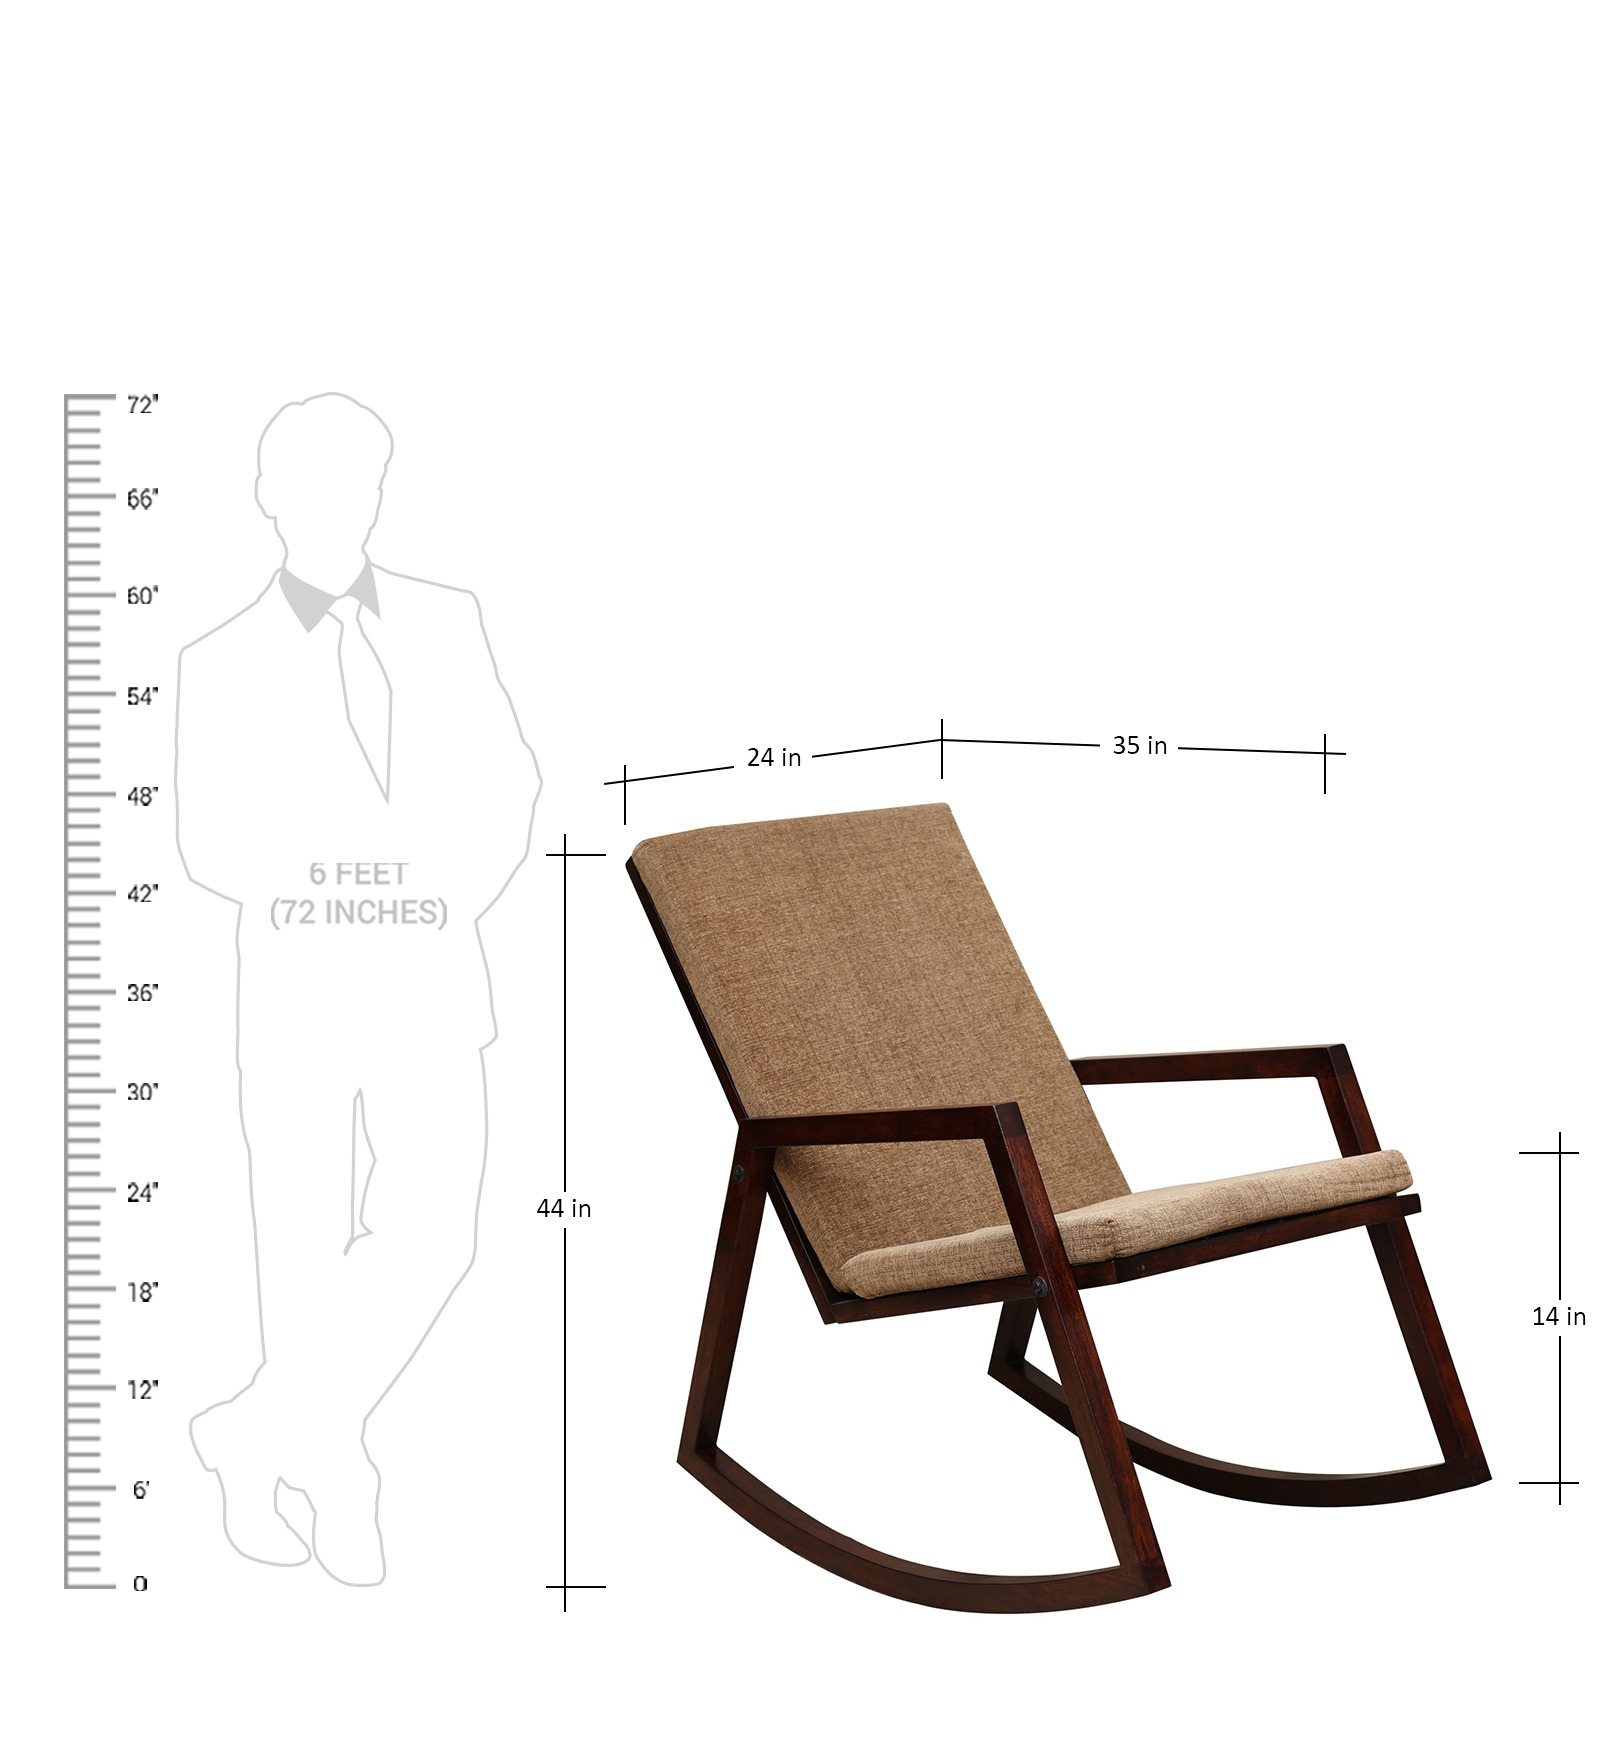Ace Rocking Chair in Brown Colour by HomeTown: (615, 793, 1510, 1634)
